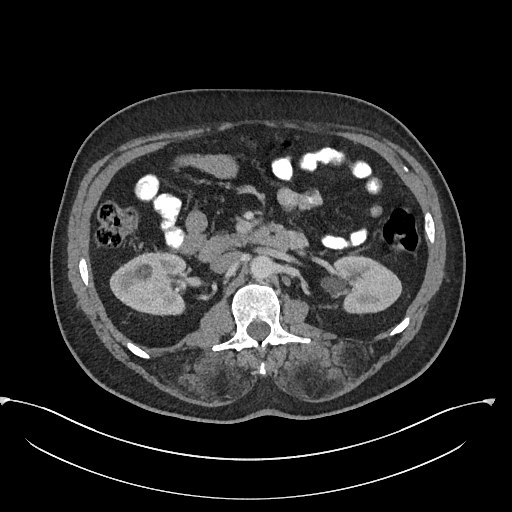Lesion: (132, 262, 156, 283)
